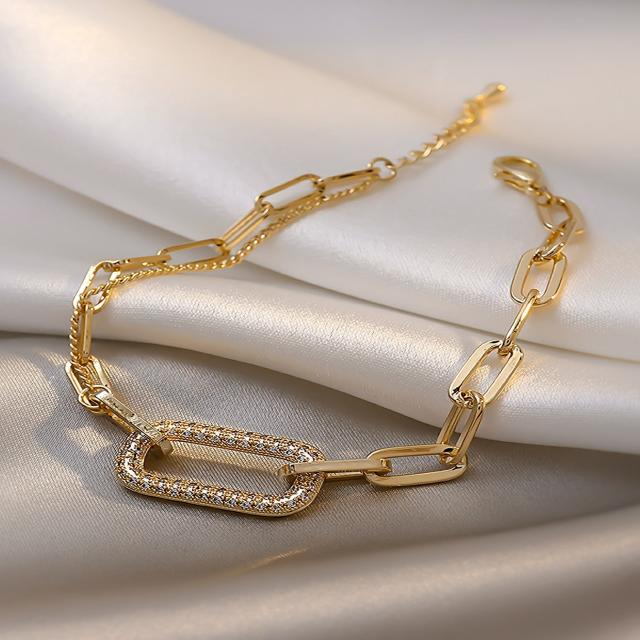bracelet: (8, 39, 640, 558)
